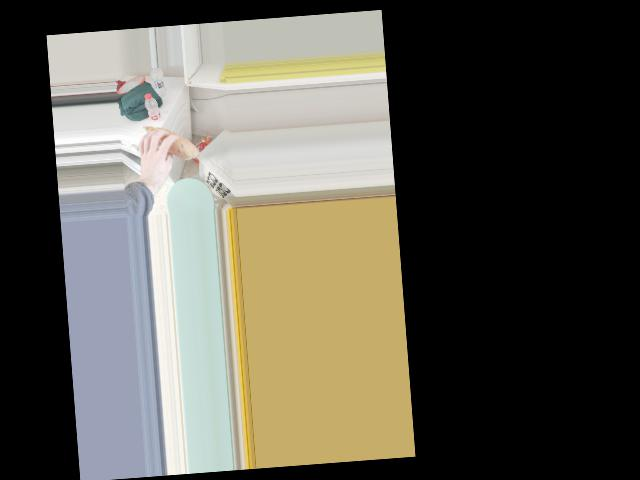sweet_potato: (141, 124, 197, 163)
